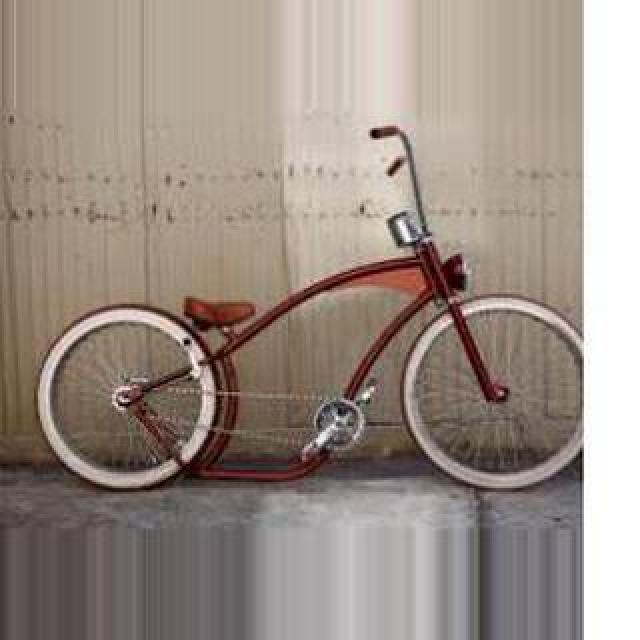Person: (33, 122, 583, 494)
